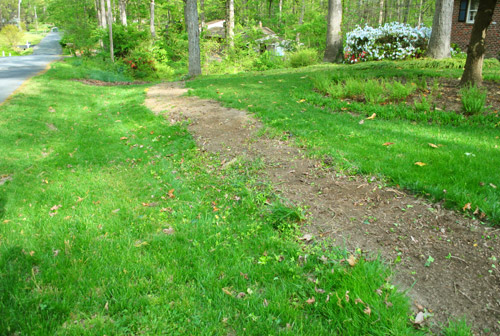grass: (0, 104, 172, 330), (174, 163, 272, 331), (274, 233, 398, 335), (367, 114, 499, 205), (281, 69, 367, 170), (213, 72, 279, 120), (427, 0, 454, 59)
tree: (459, 5, 492, 86), (184, 0, 201, 77), (325, 0, 342, 63)
